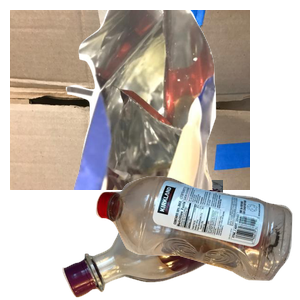cardboard: (10, 10, 250, 190)
glass: (60, 180, 300, 300)
plastic: (93, 173, 300, 300)
trash: (63, 10, 300, 190)
